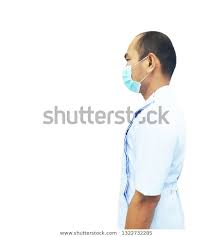masked: (113, 28, 181, 101)
